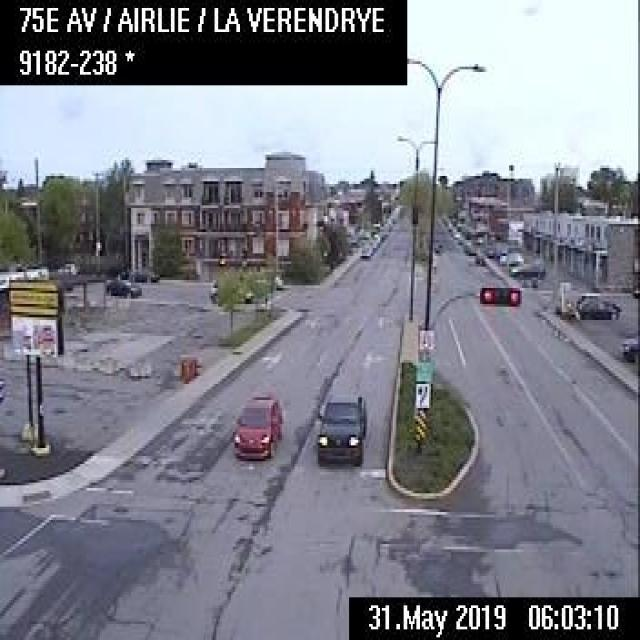construction: (180, 358, 187, 381), (190, 354, 196, 376), (187, 358, 191, 380)
vehicle: (313, 392, 367, 464), (229, 389, 284, 456), (574, 290, 620, 320), (209, 277, 251, 302), (100, 276, 140, 296), (508, 258, 544, 278), (620, 334, 638, 361), (498, 251, 523, 266), (471, 250, 483, 265), (272, 273, 282, 287), (360, 245, 370, 257), (363, 242, 372, 253), (465, 243, 474, 254), (456, 236, 462, 244), (452, 230, 458, 238)
